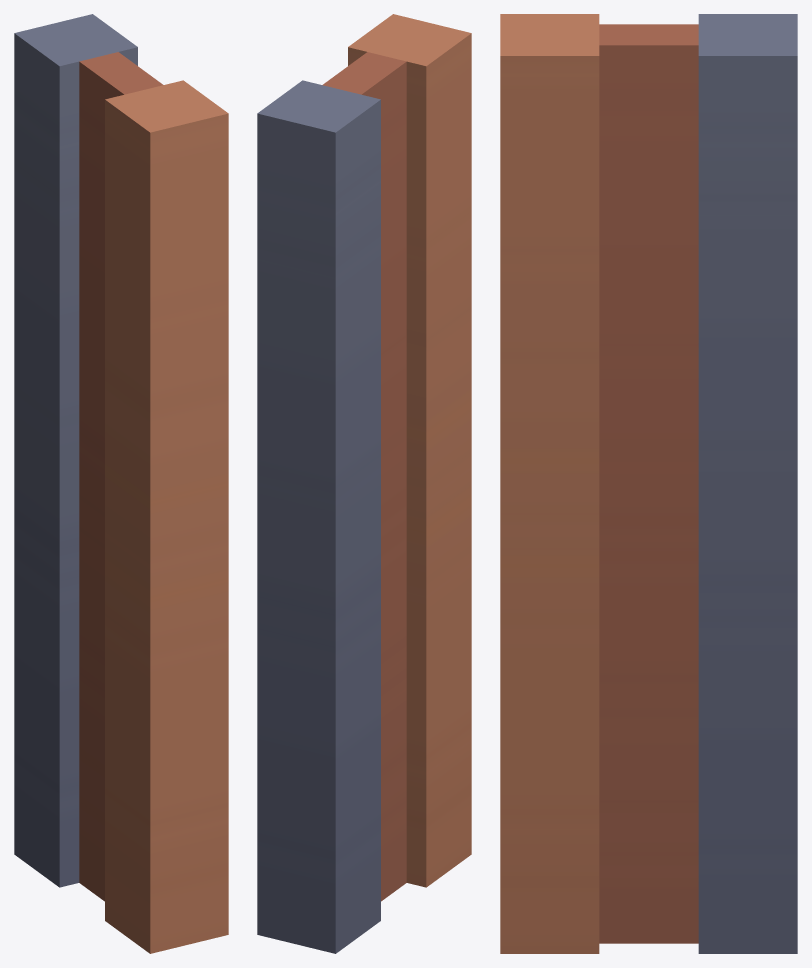
The model's file is wall-wood-arch.fbx.
3 views of the same model, side by side, from view 1: azimuth 30°, elevation 25°; view 2: azimuth 150°, elevation 25°; view 3: azimuth 270°, elevation 25° (orthographic). The views are drawn at different scales.
Visible parts, largest first — view 1: wall-wood-arch; view 2: wall-wood-arch; view 3: wall-wood-arch.
Boxes of the visible parts, box(x1,y1,x2,y2) form: wall-wood-arch: box(14, 14, 228, 953); wall-wood-arch: box(257, 14, 471, 953); wall-wood-arch: box(500, 14, 797, 953).
Bounding box in the file's own units: 10 × 100 × 30.
Materials: 1 (1 with a texture image).
